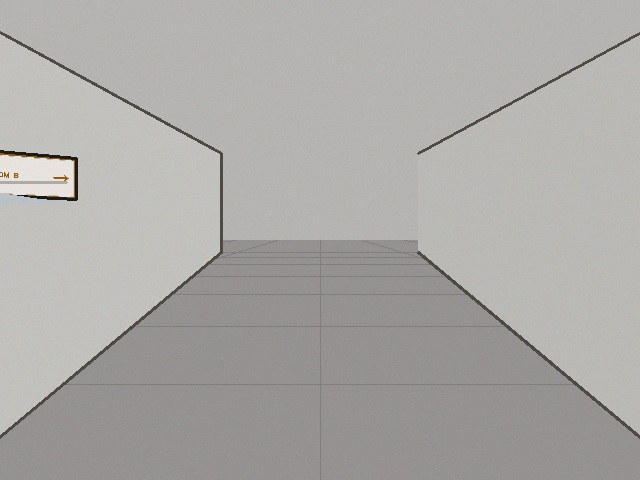directional_sign: (0, 150, 76, 199)
hospital_bed: (0, 176, 66, 303)
